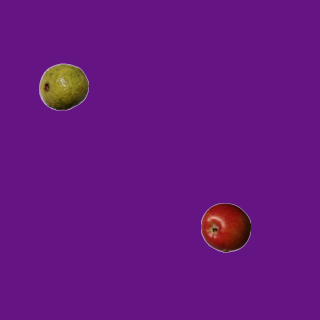Apple Braeburn: (200, 202, 250, 252)
Guava: (38, 61, 88, 111)
